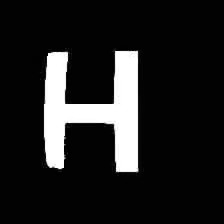LTR_H: (37, 40, 146, 173)
